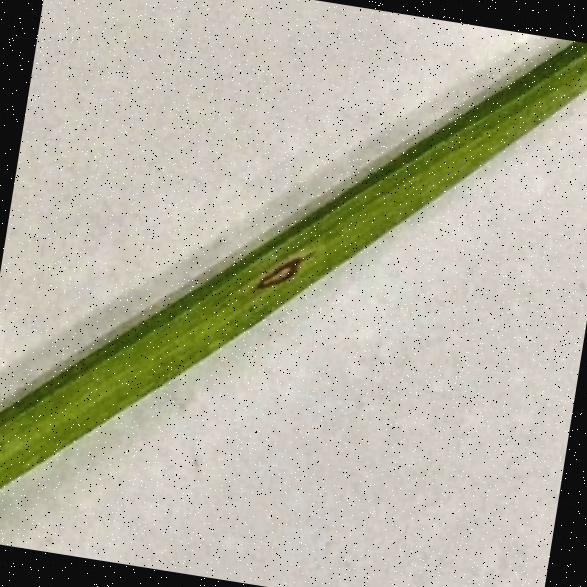Leaf_smut: (231, 226, 326, 317)
